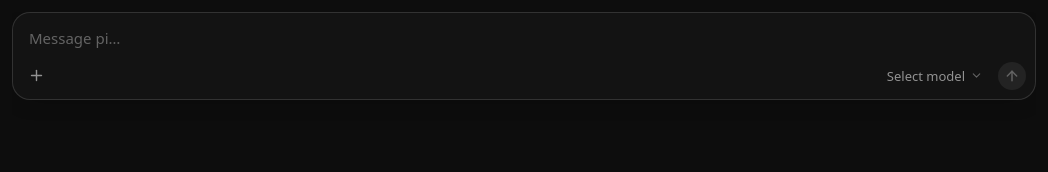
Composer prompt history › recalls bash commands and prompts without their attached files
This screenshot has width=1048, height=172.
Click the text box labelled "Message" at (524, 34), box [13,13,1035,55]
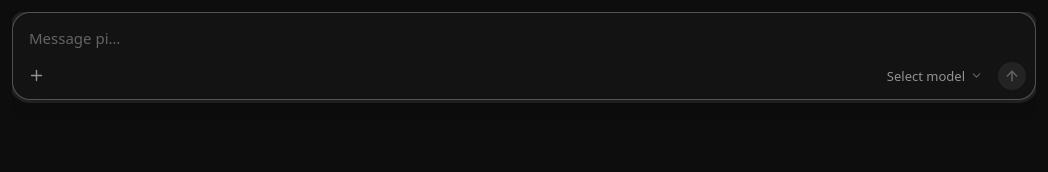
Press Arrowup
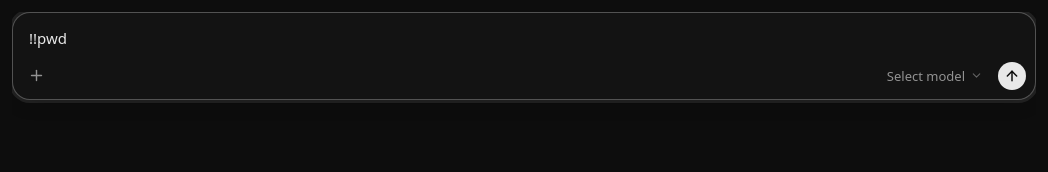
Check: the text box named "Message" holds "!!pwd", box [13,13,1035,55]
Press Arrowup
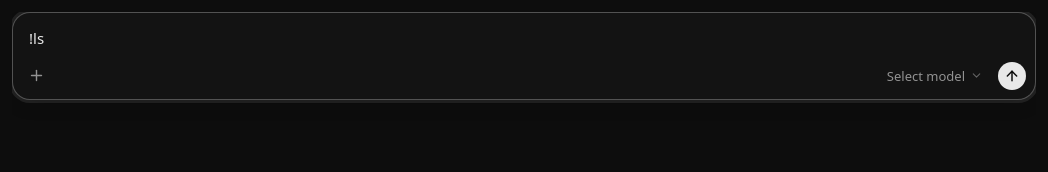
Check: the text box named "Message" holds "!ls", box [13,13,1035,55]
Press Arrowup
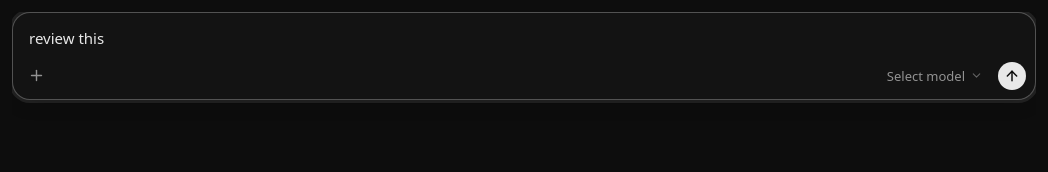
Check: the text box named "Message" holds "review this", box [13,13,1035,55]
